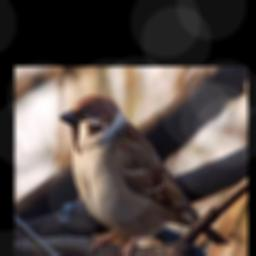Sparrow: (56, 93, 229, 256)
